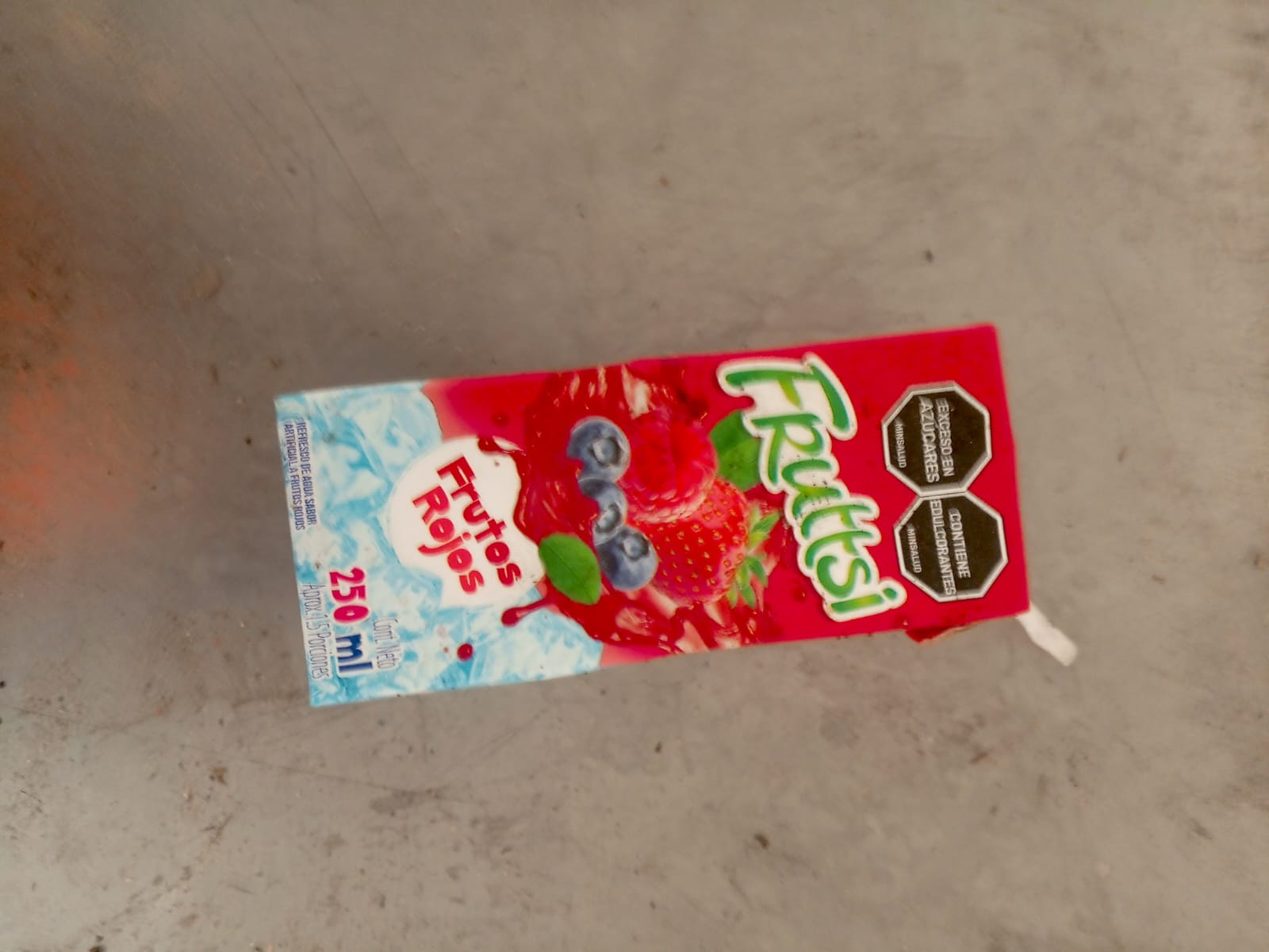Carton: (275, 324, 1030, 710)
